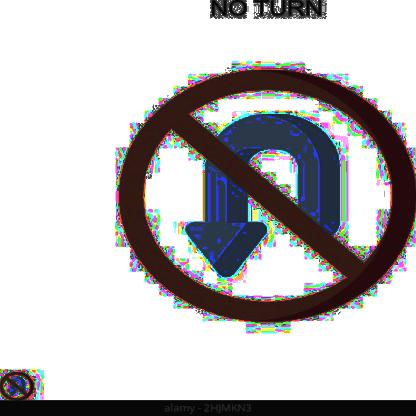No U-turn: (112, 66, 416, 329)
